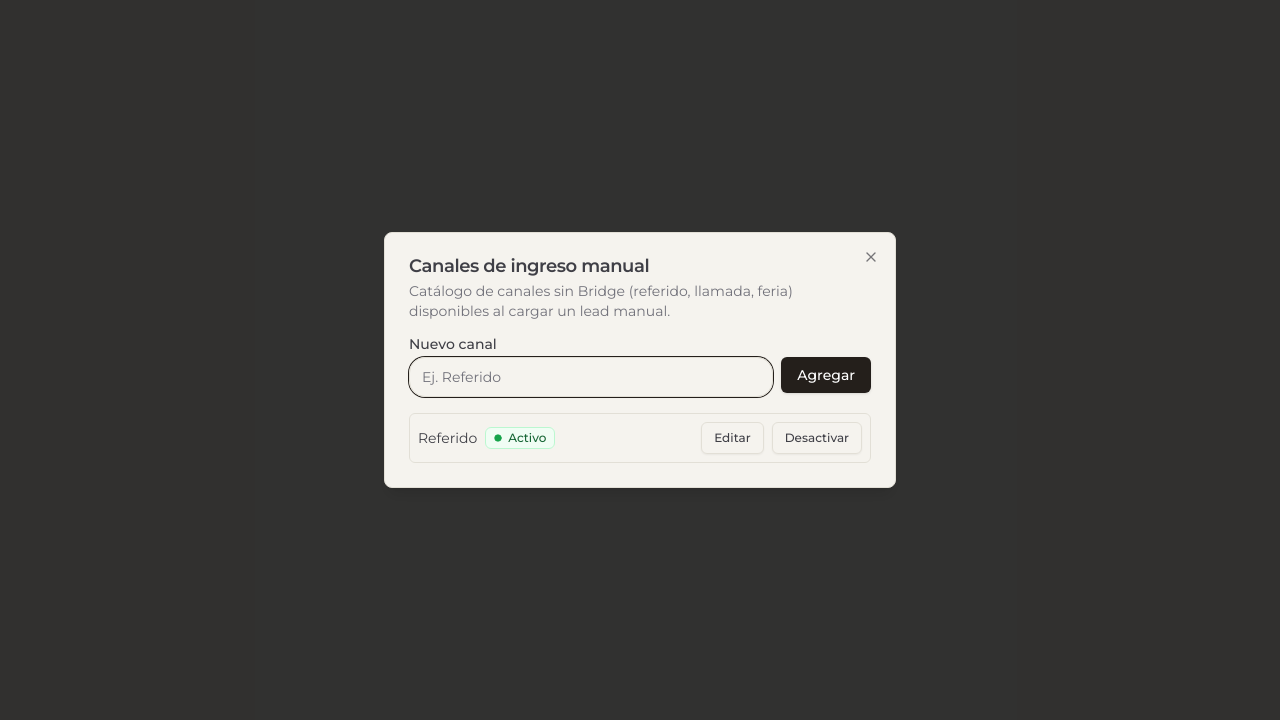
it: GestionarCanalesManualesDialog — alta de canal › ante un nombre duplicado (409), muestra el mensaje accionable de la API
Expected: the text "Referido" is shown, [418,428,477,448]
Type "Referido" into the field labelled "Nuevo canal" at point(591, 377), box [409,357,773,397]
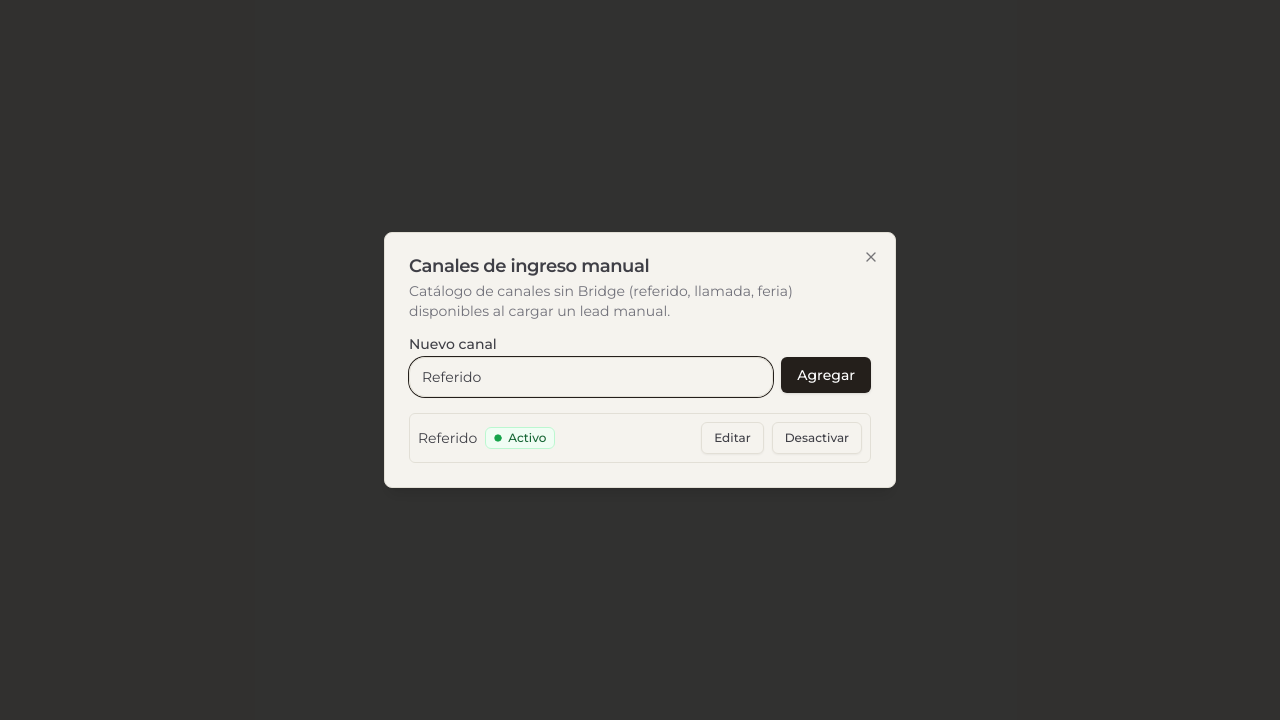
Click the button "Agregar" at point(826, 375), box [781,357,871,393]
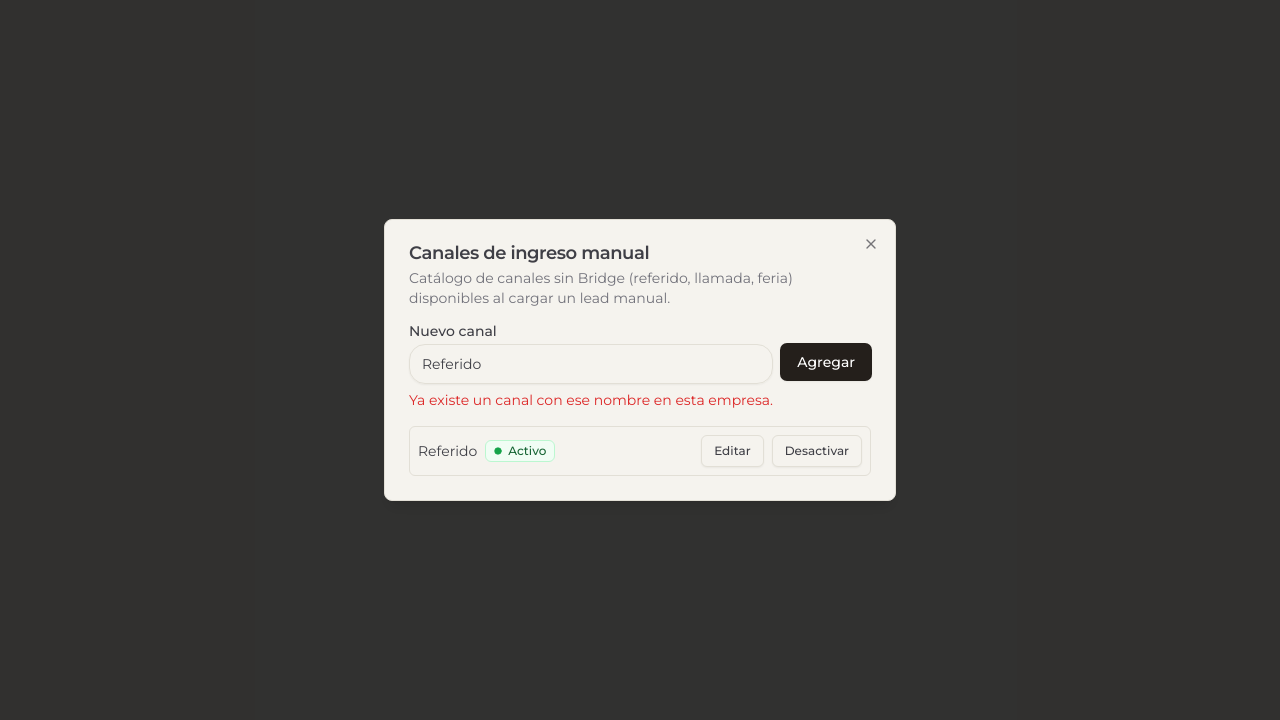
Now the text "Ya existe un canal con ese nombre en esta empresa." is shown, box [409,391,773,409]
